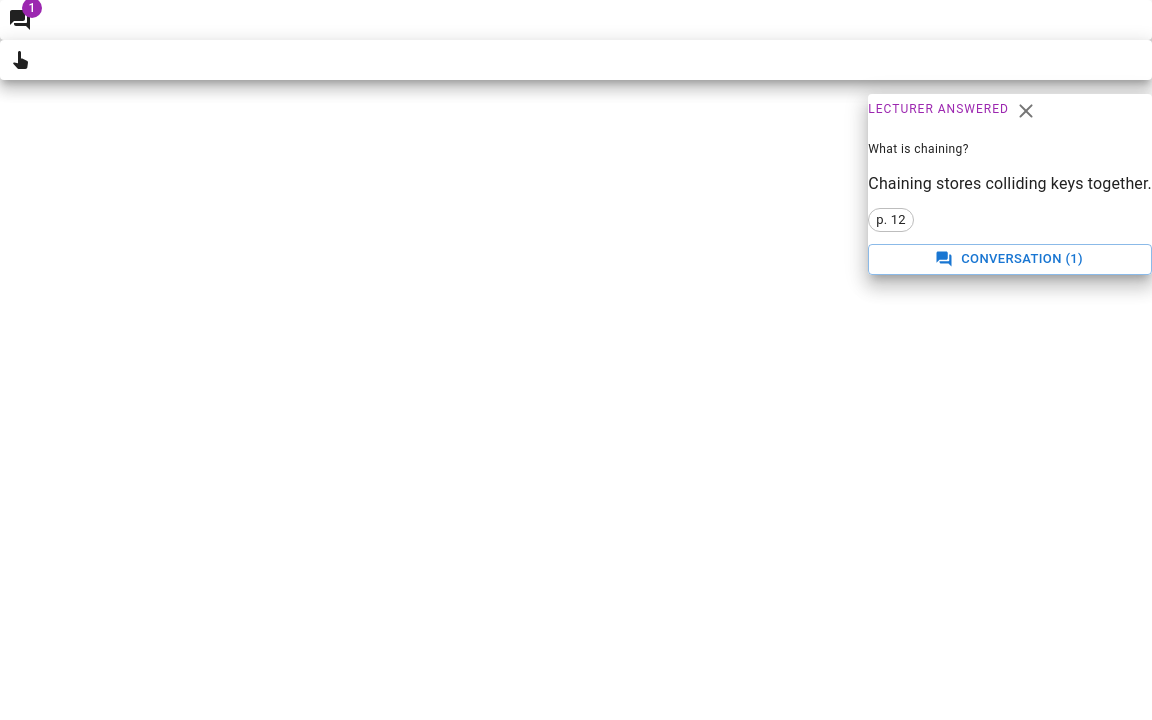
raise-hand transforming control › shows a successful answer above the control and opens history on demand
Expected: the text "Chaining stores colliding keys together." is shown, [868, 172, 1151, 196]
Click the button named "Open raise-hand conversation, 1 turn". click: (20, 20)
box: [0, 0, 40, 40]
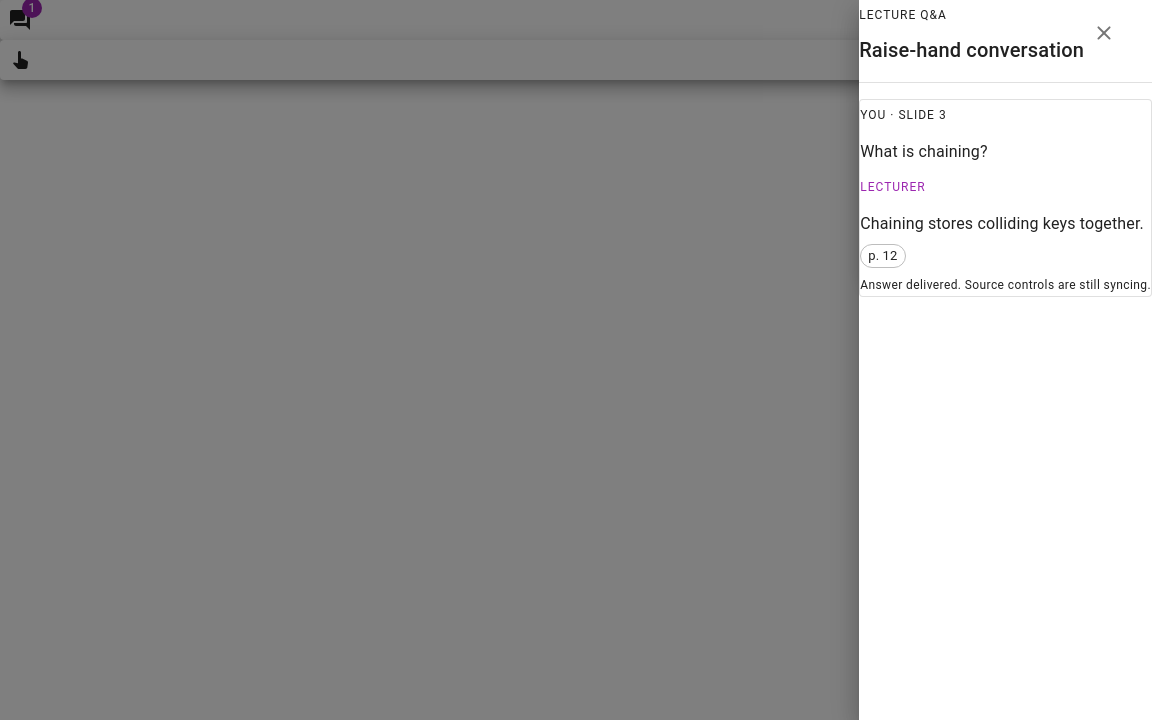
Now the dialog labelled "Raise-hand conversation" is shown, box [859, 0, 1151, 719]
